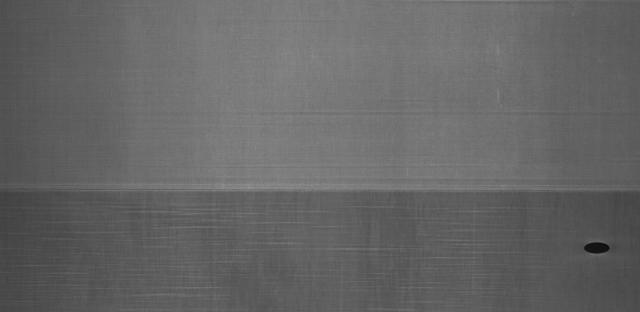punching_hole: (580, 238, 612, 257)
welding_line: (8, 177, 634, 203)
